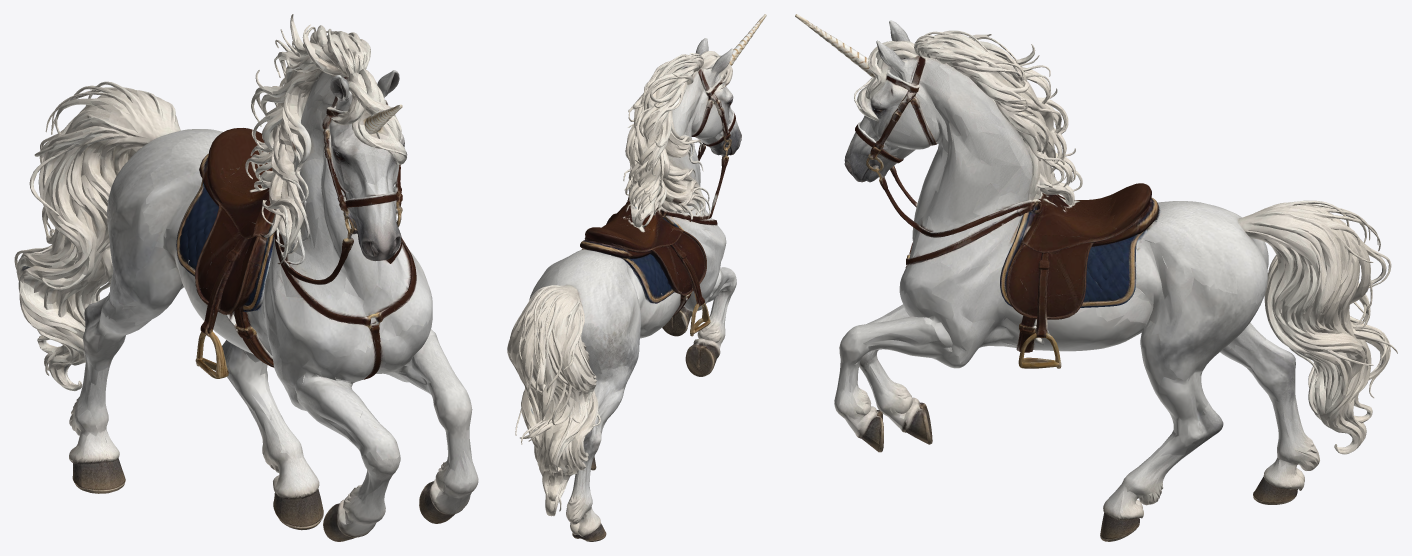
The model's file is unicorn.glb.
3 views of the same model, side by side, from view 1: azimuth 30°, elevation 25°; view 2: azimuth 150°, elevation 25°; view 3: azimuth 270°, elevation 25° (orthographic). The views are drawn at different scales.
Bounding box in the file's own units: 0.5736 × 1.71 × 1.9.
1 material, 1 textured.
